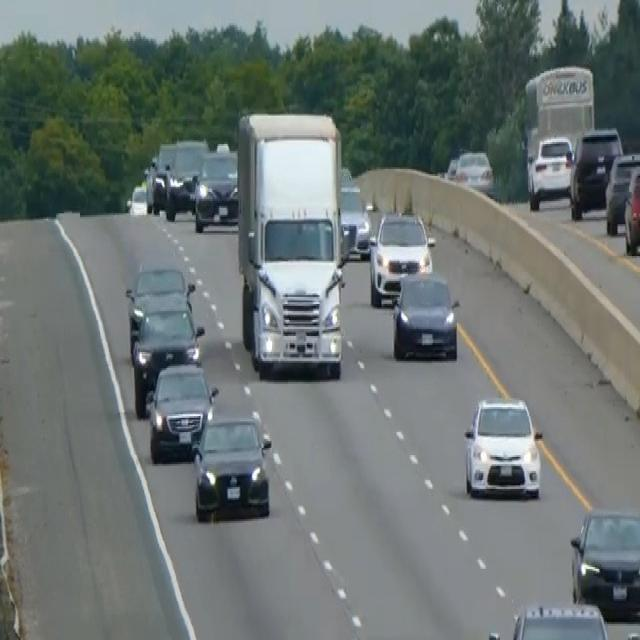car: (130, 298, 205, 418), (191, 411, 272, 521), (462, 393, 543, 499), (569, 505, 639, 619), (145, 358, 218, 462), (124, 263, 196, 357), (368, 208, 435, 306), (391, 268, 459, 361), (568, 124, 623, 218), (487, 599, 611, 638), (193, 144, 239, 231), (163, 137, 209, 220), (526, 133, 574, 208), (604, 149, 639, 235), (339, 183, 371, 258), (145, 140, 176, 213), (163, 163, 197, 220), (454, 147, 494, 195), (622, 164, 639, 254), (125, 181, 148, 215), (338, 164, 354, 188), (444, 154, 458, 180)
lorry: (235, 106, 347, 378)
